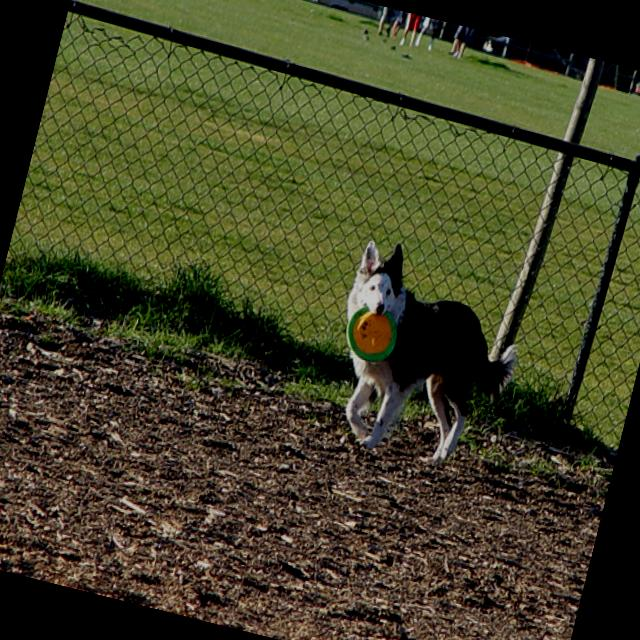Vehicle: (478, 31, 579, 77), (303, 0, 384, 19)
